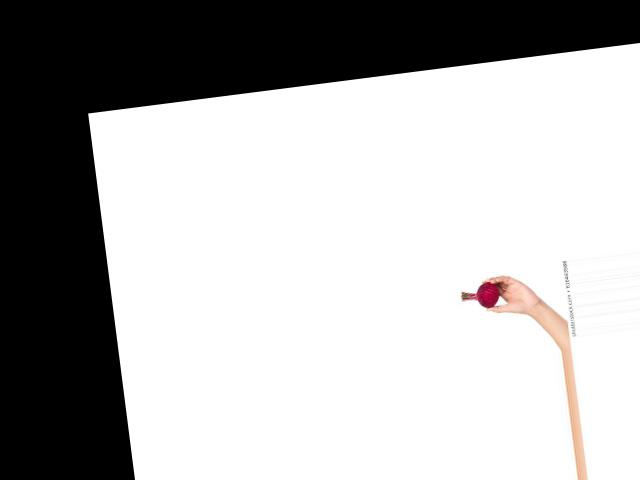beet: (459, 280, 499, 310)
